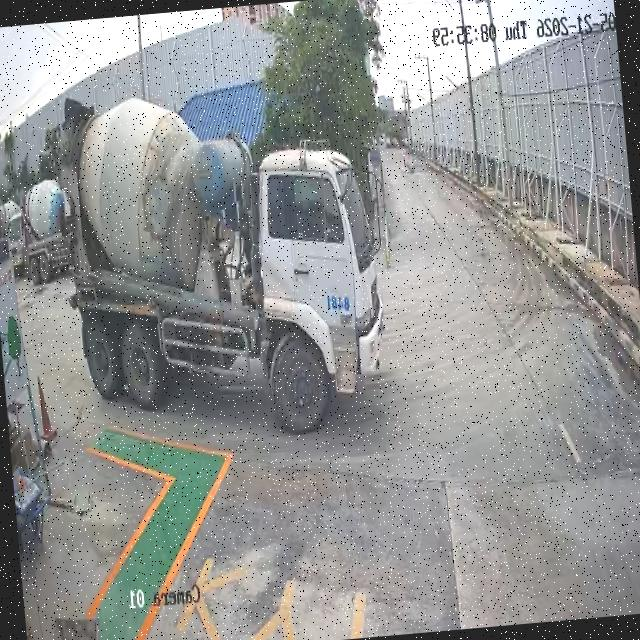cement_mixer_truck: (60, 97, 385, 433), (25, 179, 70, 283), (5, 211, 28, 272), (0, 191, 23, 238)
